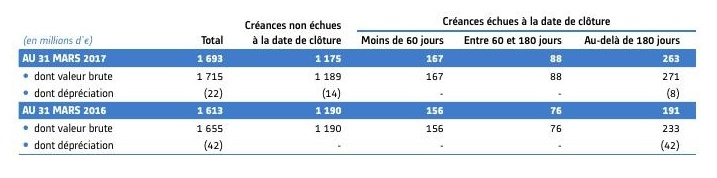table: (0, 0, 717, 178)
